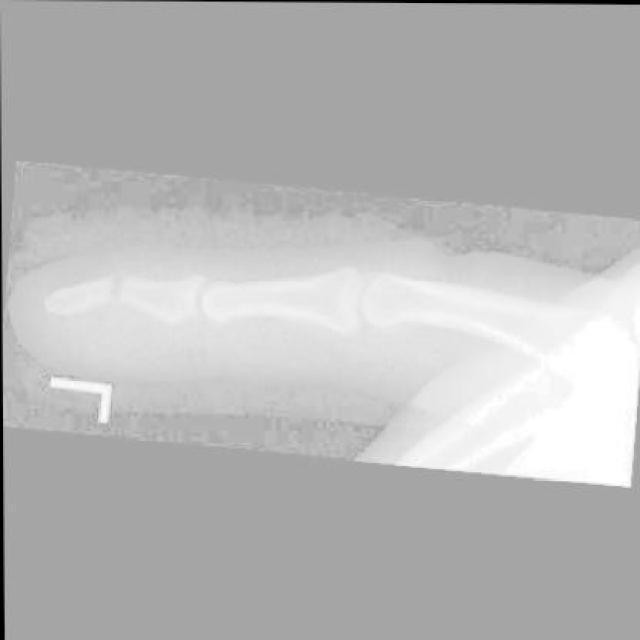Fracture: (95, 267, 131, 307)
